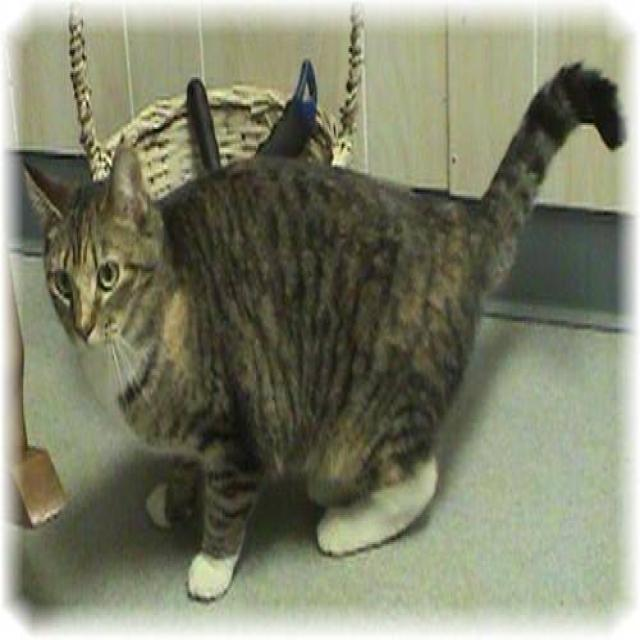cat: (18, 58, 627, 602)
